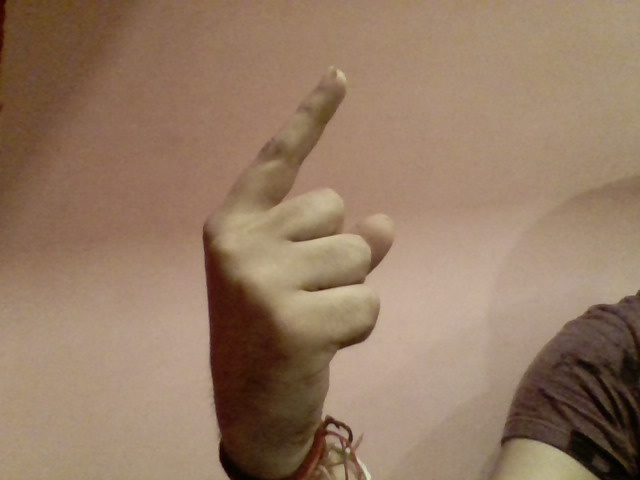z: (179, 59, 399, 421)
